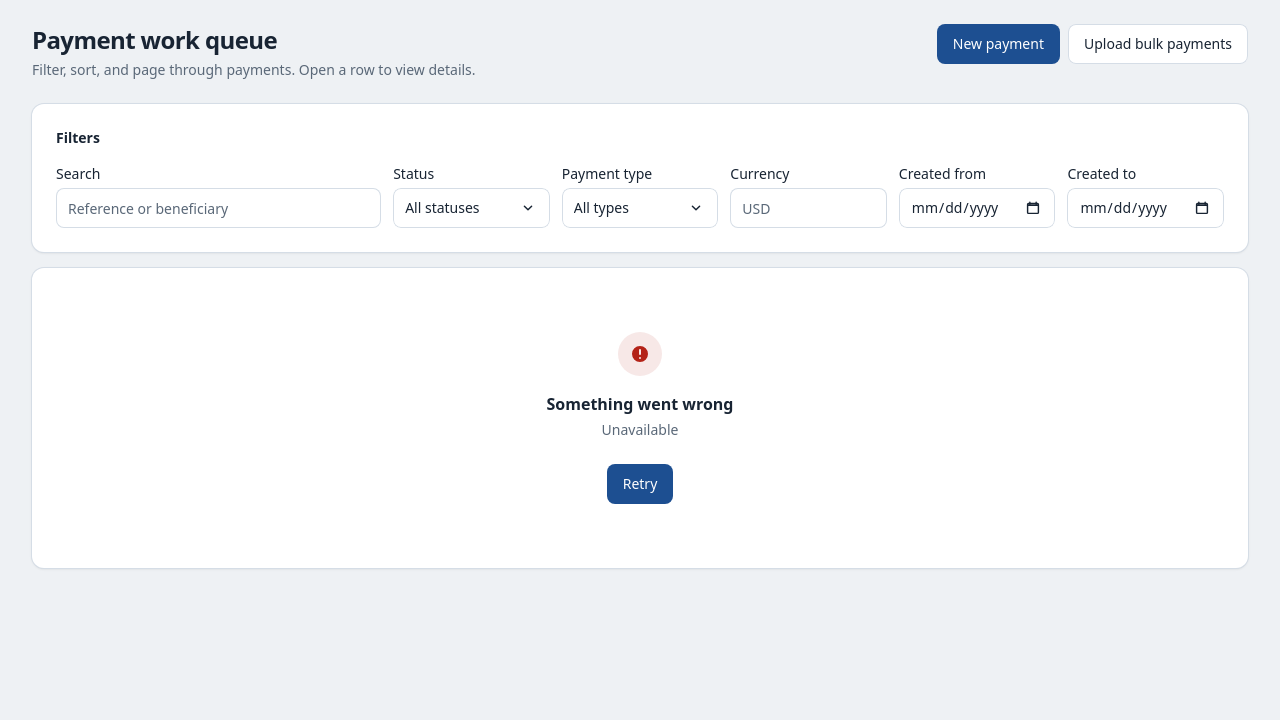
PaymentListComponent › shows an error state and retries GET /api/payments
Click the button "Retry" at (640, 484), box [607,464,673,504]
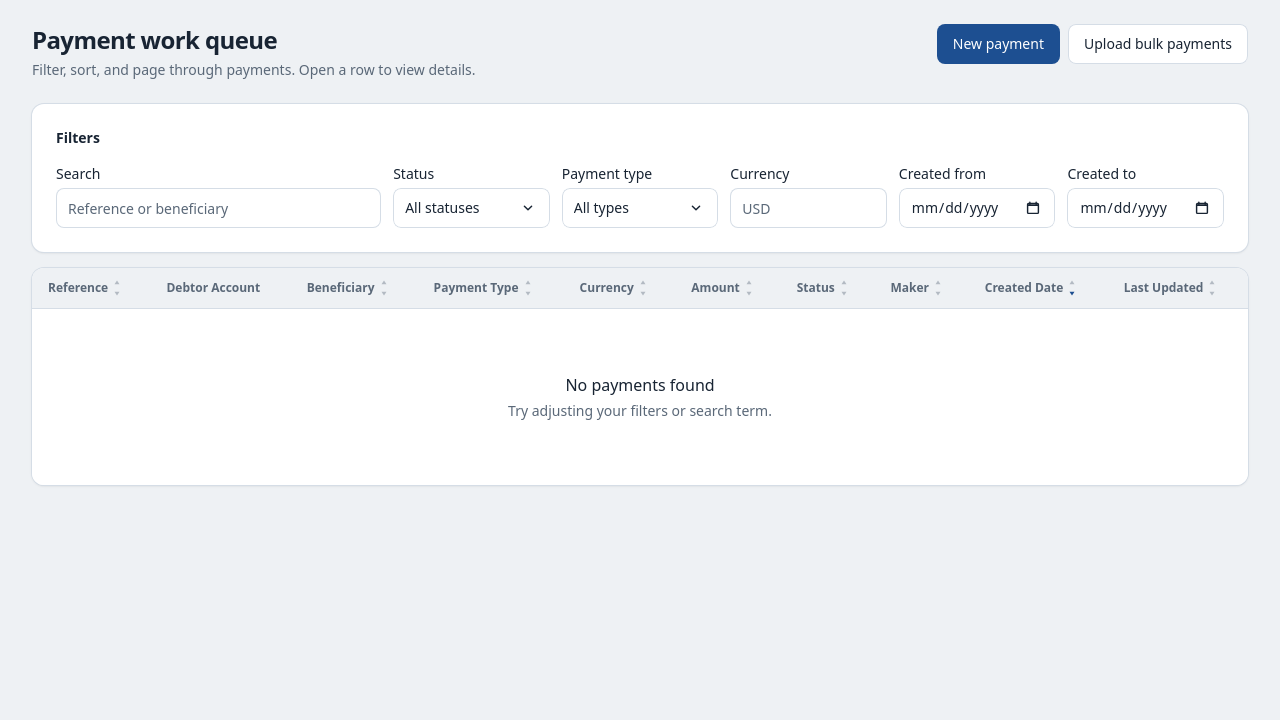
Expected: the text "No payments found" is shown, [565,374,715,396]
